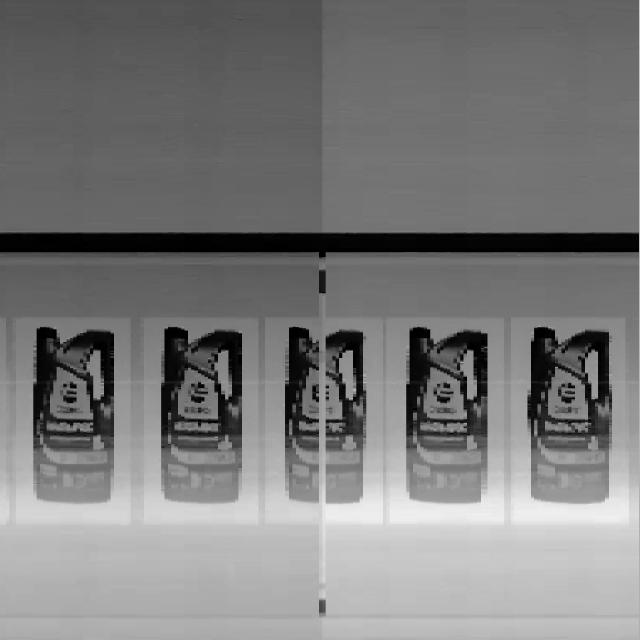motor_oil: (524, 322, 615, 507), (28, 328, 118, 510), (157, 324, 245, 508), (282, 322, 368, 504), (406, 323, 490, 509)
